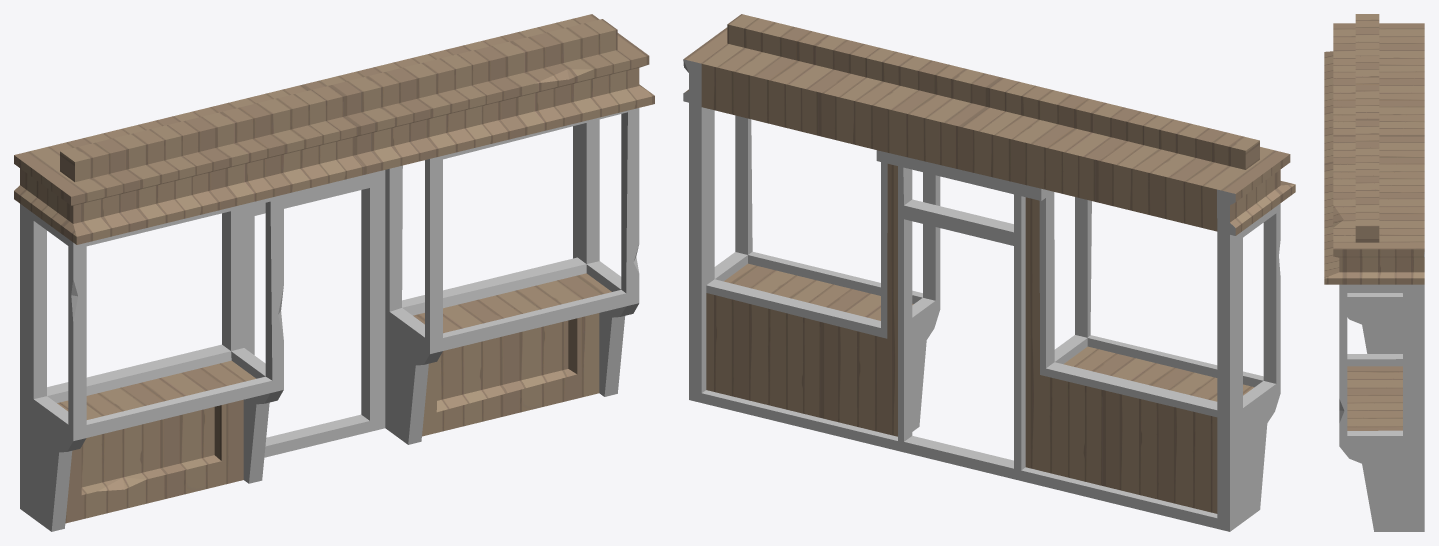
File: SM_Bld_ShopFront_02.obj
The picture shows the model from 3 angles, left to right: view 1: azimuth 30°, elevation 25°; view 2: azimuth 150°, elevation 25°; view 3: azimuth 270°, elevation 25°; orthographic projection. The views are drawn at different scales.
Parts seen in each view (by area): view 1: SM_Bld_ShopFront_02_2, SM_Bld_ShopFront_02_0, SM_Bld_ShopFront_02_1; view 2: SM_Bld_ShopFront_02_1, SM_Bld_ShopFront_02_0, SM_Bld_ShopFront_02_2; view 3: SM_Bld_ShopFront_02_2, SM_Bld_ShopFront_02_0, SM_Bld_ShopFront_02_1.
Part boxes in pixels (bbox=[...]): SM_Bld_ShopFront_02_2: bbox=[14, 14, 654, 523]; SM_Bld_ShopFront_02_0: bbox=[20, 108, 639, 531]; SM_Bld_ShopFront_02_1: bbox=[57, 273, 611, 419]; SM_Bld_ShopFront_02_1: bbox=[701, 64, 1254, 513]; SM_Bld_ShopFront_02_0: bbox=[683, 59, 1280, 531]; SM_Bld_ShopFront_02_2: bbox=[683, 14, 1295, 235]; SM_Bld_ShopFront_02_2: bbox=[1324, 14, 1424, 284]; SM_Bld_ShopFront_02_0: bbox=[1339, 252, 1424, 531]; SM_Bld_ShopFront_02_1: bbox=[1347, 366, 1402, 430].
Bounding box in the file's own units: 5.11 × 3.17 × 0.9606.
